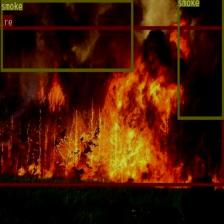fire: (0, 25, 224, 186)
smoke: (0, 0, 133, 71), (177, 0, 223, 119)
